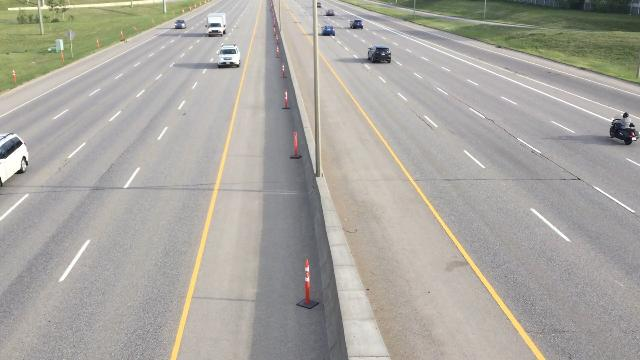car: (0, 132, 29, 188), (217, 44, 241, 70), (367, 44, 394, 65), (320, 22, 337, 38), (349, 17, 364, 31), (175, 18, 186, 30), (325, 8, 336, 16), (317, 2, 322, 8)
motorcycle: (608, 110, 640, 144)
truck: (206, 12, 227, 37)
